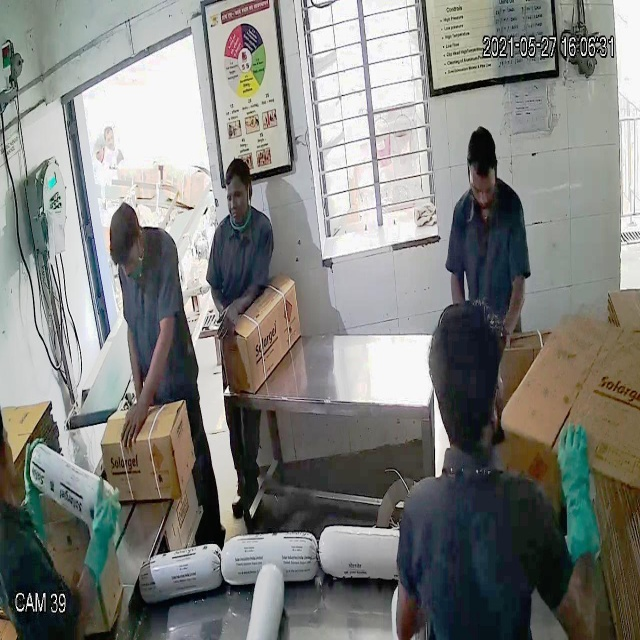Sin_gafas: (468, 172, 499, 206)
